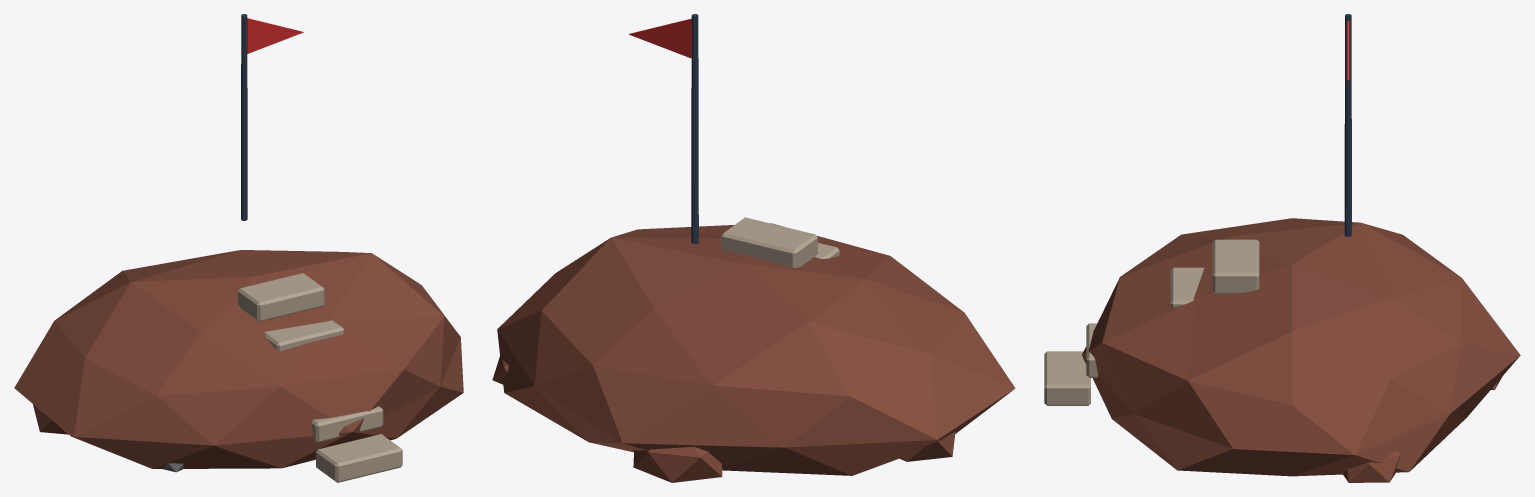
File: bukit_puncak_v001.glb
3 renders of one model, left to right at view 1: azimuth 30°, elevation 25°; view 2: azimuth 150°, elevation 25°; view 3: azimuth 270°, elevation 25°, orthographic. The views are drawn at different scales.
Visible parts, largest first — view 1: Bukit_Puncak; view 2: Bukit_Puncak; view 3: Bukit_Puncak.
Boxes of the visible parts, left/top/right/bottom form: Bukit_Puncak: left=14, top=14, right=463, bottom=482; Bukit_Puncak: left=492, top=14, right=1015, bottom=482; Bukit_Puncak: left=1044, top=14, right=1520, bottom=482.
Size of the model in its own units: 5.38 by 4.51 by 5.09.
